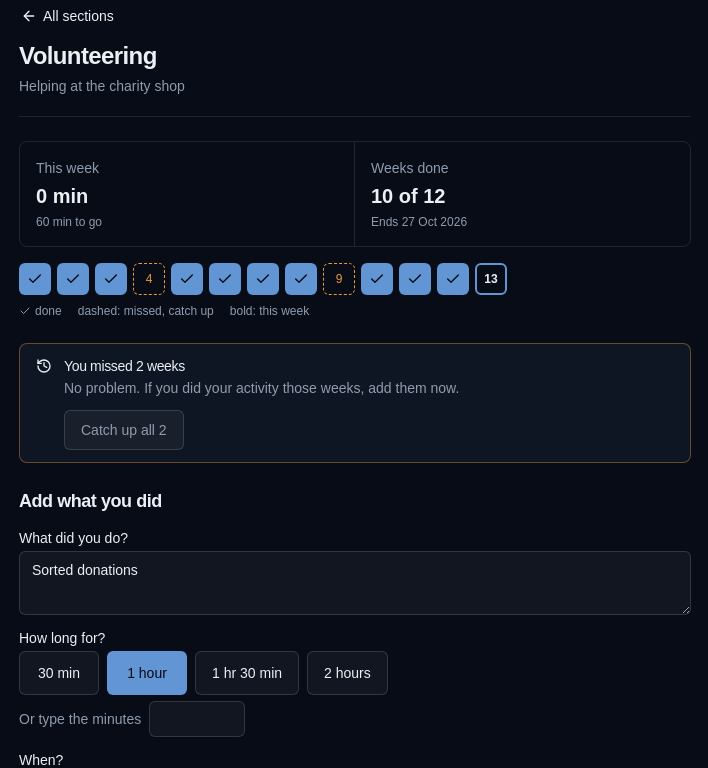
Test: logging a week › says how many minutes are left when they've done less than an hour
Click the button "30 min" at (59, 673), box [19, 651, 99, 695]
(page scrolled)
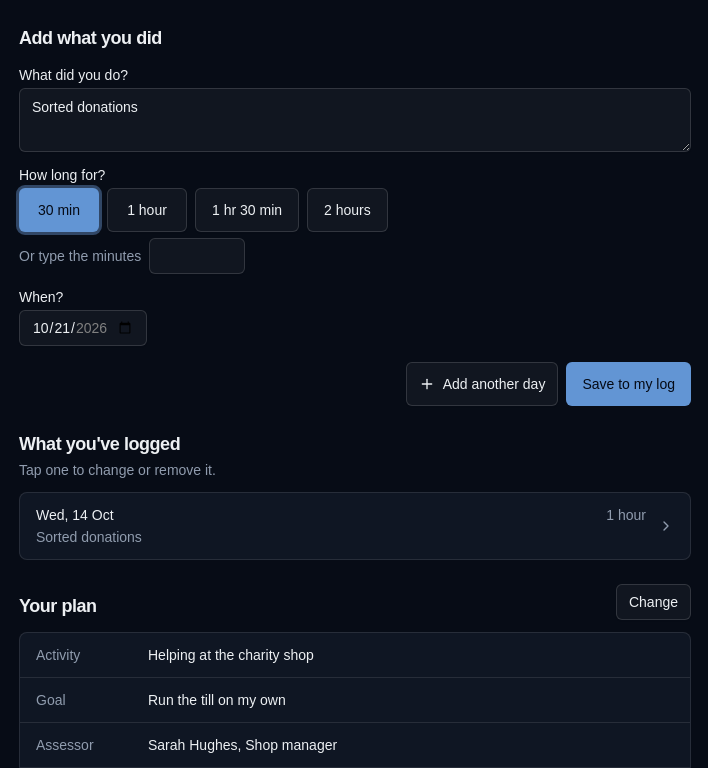
Click the button "Save to my log" at (629, 384), box [566, 362, 691, 406]
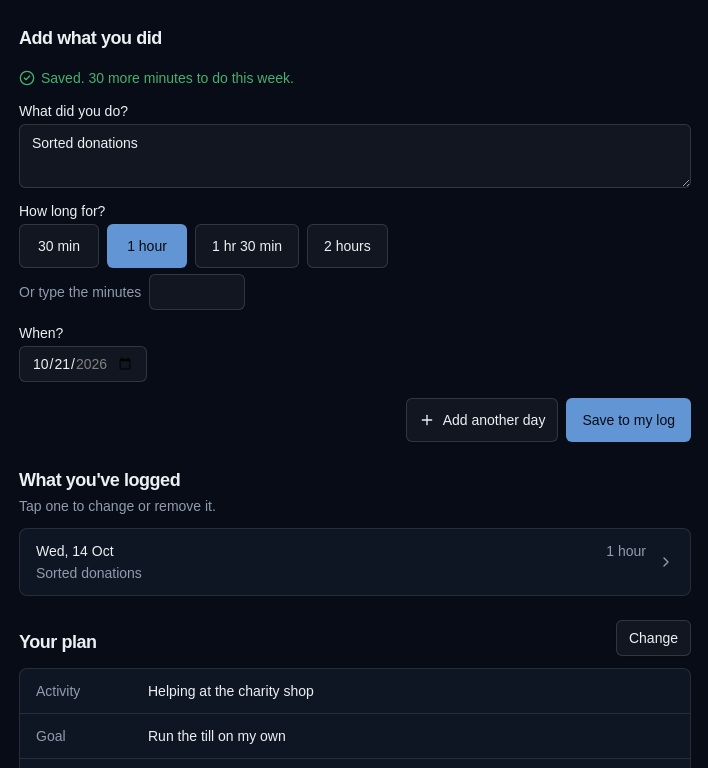
Result: the message shows "30 more minutes to do this week." at [41, 70, 294, 86]
